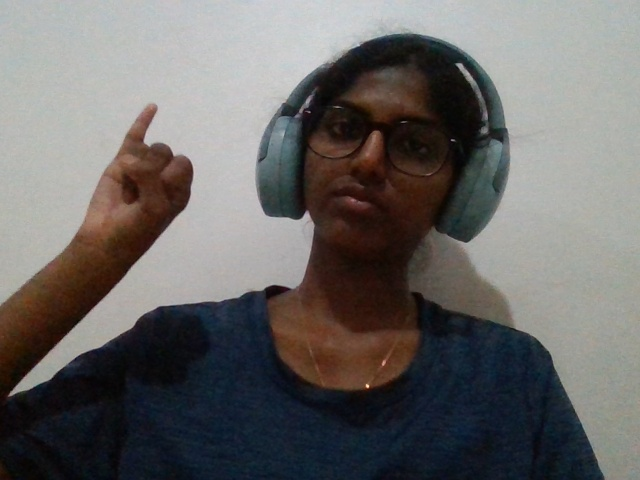I: (43, 92, 229, 330)
